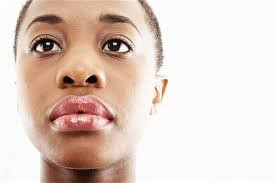Sad: (22, 11, 145, 138)
